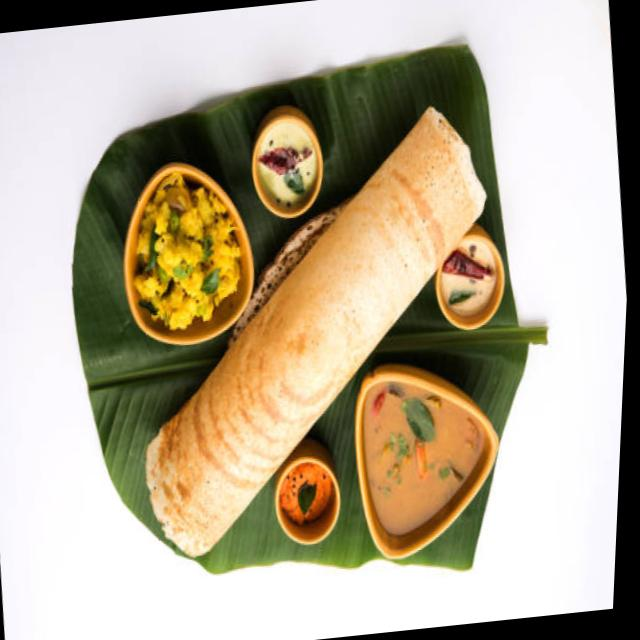CURRY: (130, 160, 235, 327)
DOSA: (143, 101, 487, 557)
RED CHUTNEY: (280, 465, 330, 531)
SAMBAR: (361, 380, 486, 538)
WHITE CHUTNEY: (255, 123, 316, 207), (440, 239, 494, 314)
